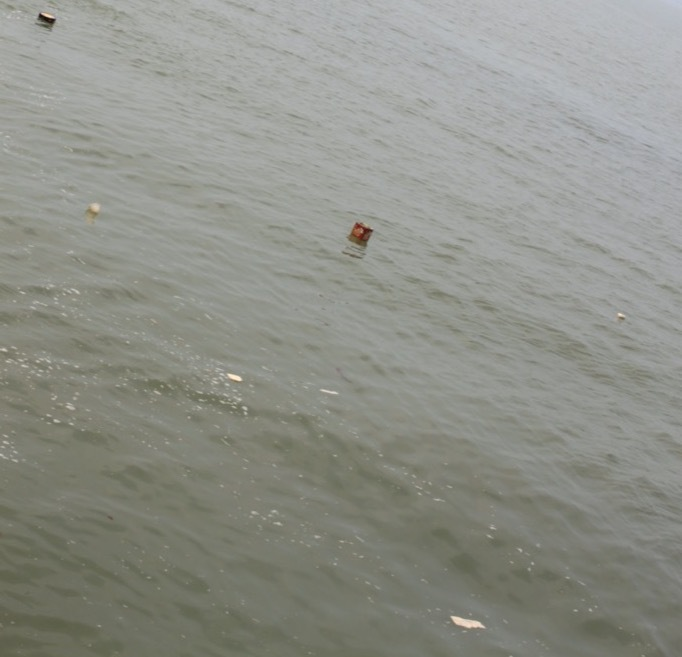plastic: (23, 6, 68, 48), (339, 213, 376, 262), (443, 606, 493, 637), (77, 194, 112, 231), (310, 374, 345, 410), (216, 365, 251, 391), (608, 302, 632, 327)
